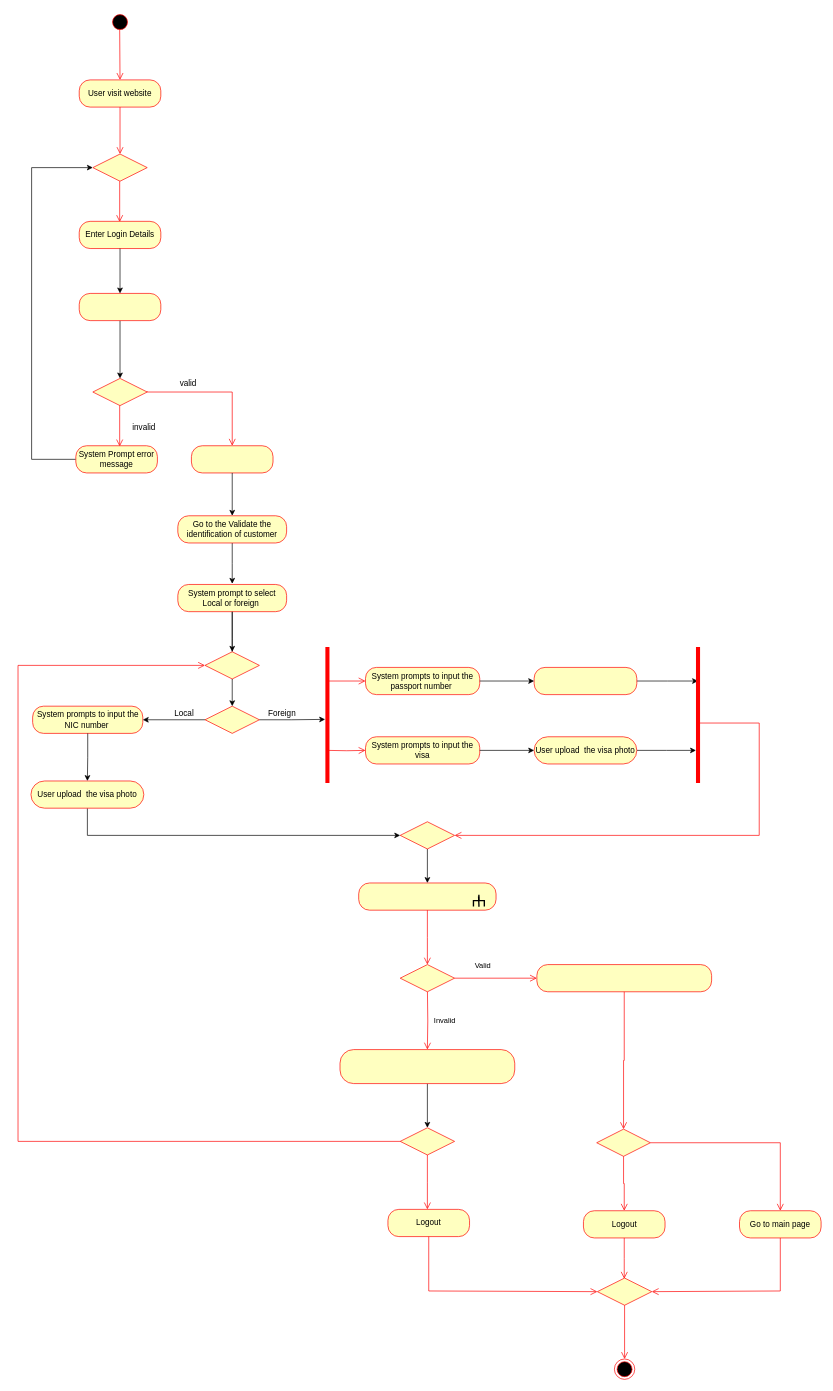
This 833x1391 diagram has some shape labels left out. Here are the shapes that lost their labels. From the top down, the box of each, then its label:
(79, 293, 161, 321): System Validates Login Details
(191, 445, 273, 473): System prompt main page
(533, 667, 637, 695): User upload the passport photo
(358, 882, 496, 910): System verifies the documents
(536, 964, 712, 992): The system prompts the successfully validate identification message
(339, 1049, 515, 1084): The system prompts the unsuccessfully validate identification message
